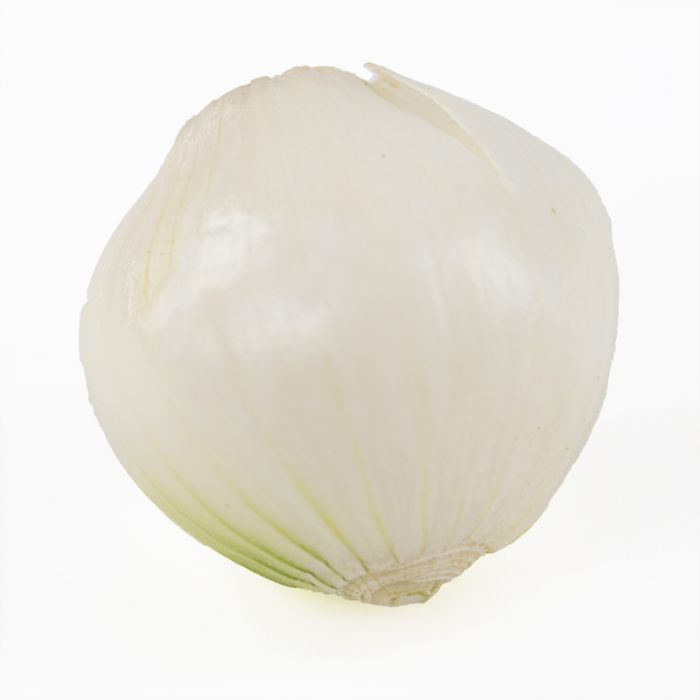onion: (106, 17, 610, 632)
